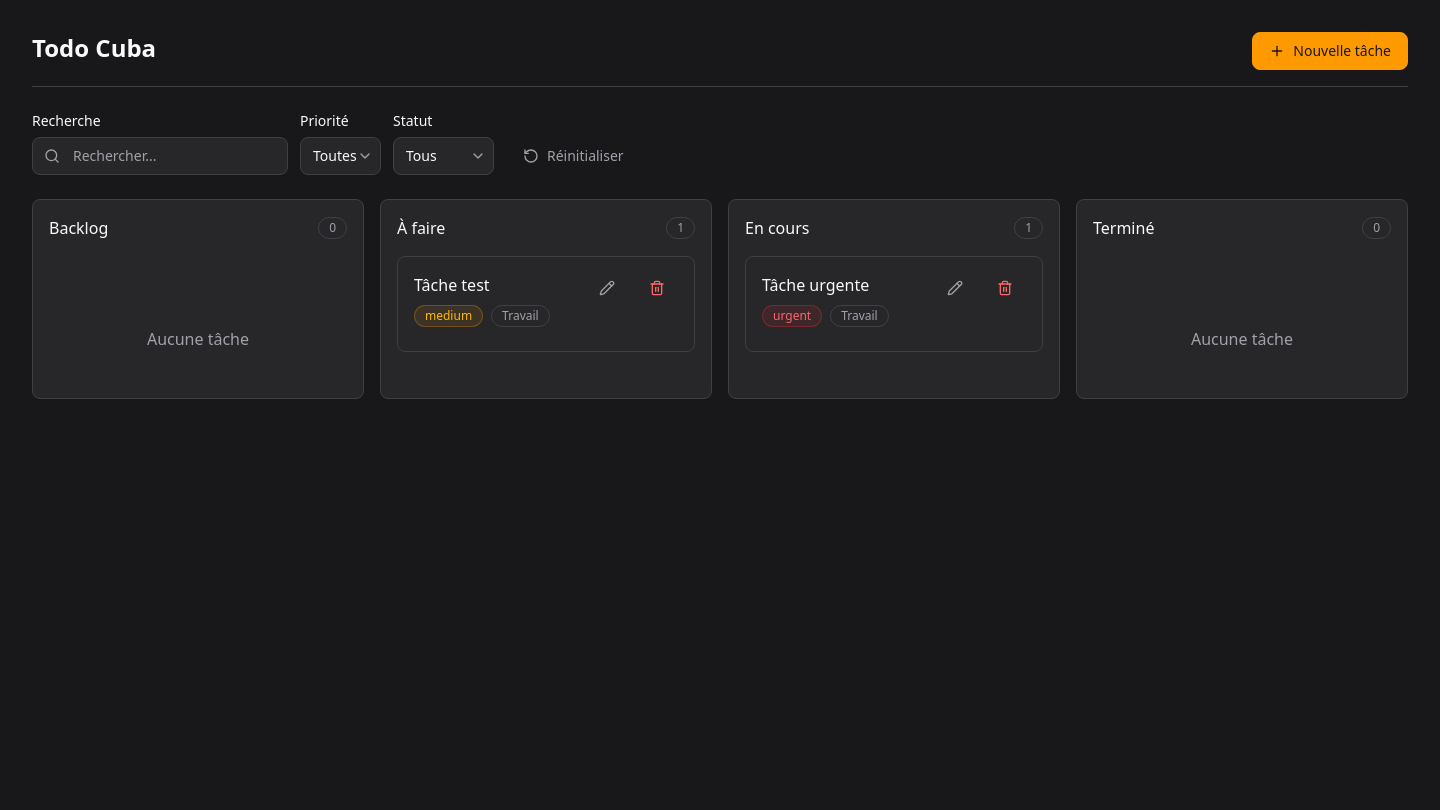
Test: Page d'accueil (HomePage) › cliquer sur Modifier dans le Kanban ouvre le TaskForm en mode édition
The width and height of the screenshot is (1440, 810).
Click the button with test id "edit-task-11111111-1111-1111-1111-111111111111": (607, 288) [586,273,628,303]
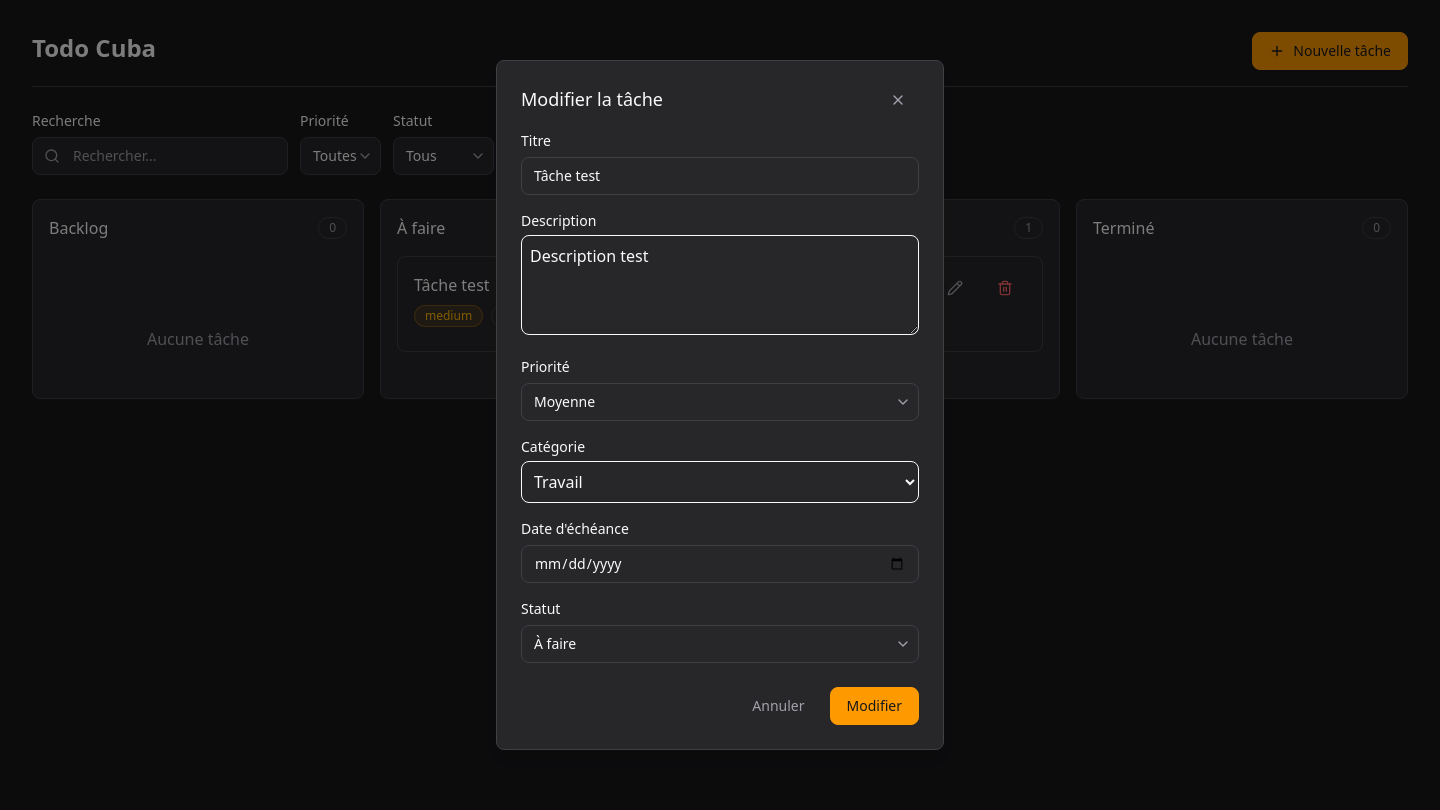
expect the heading "Modifier la tâche" is shown: met, box [521,85,663,113]
